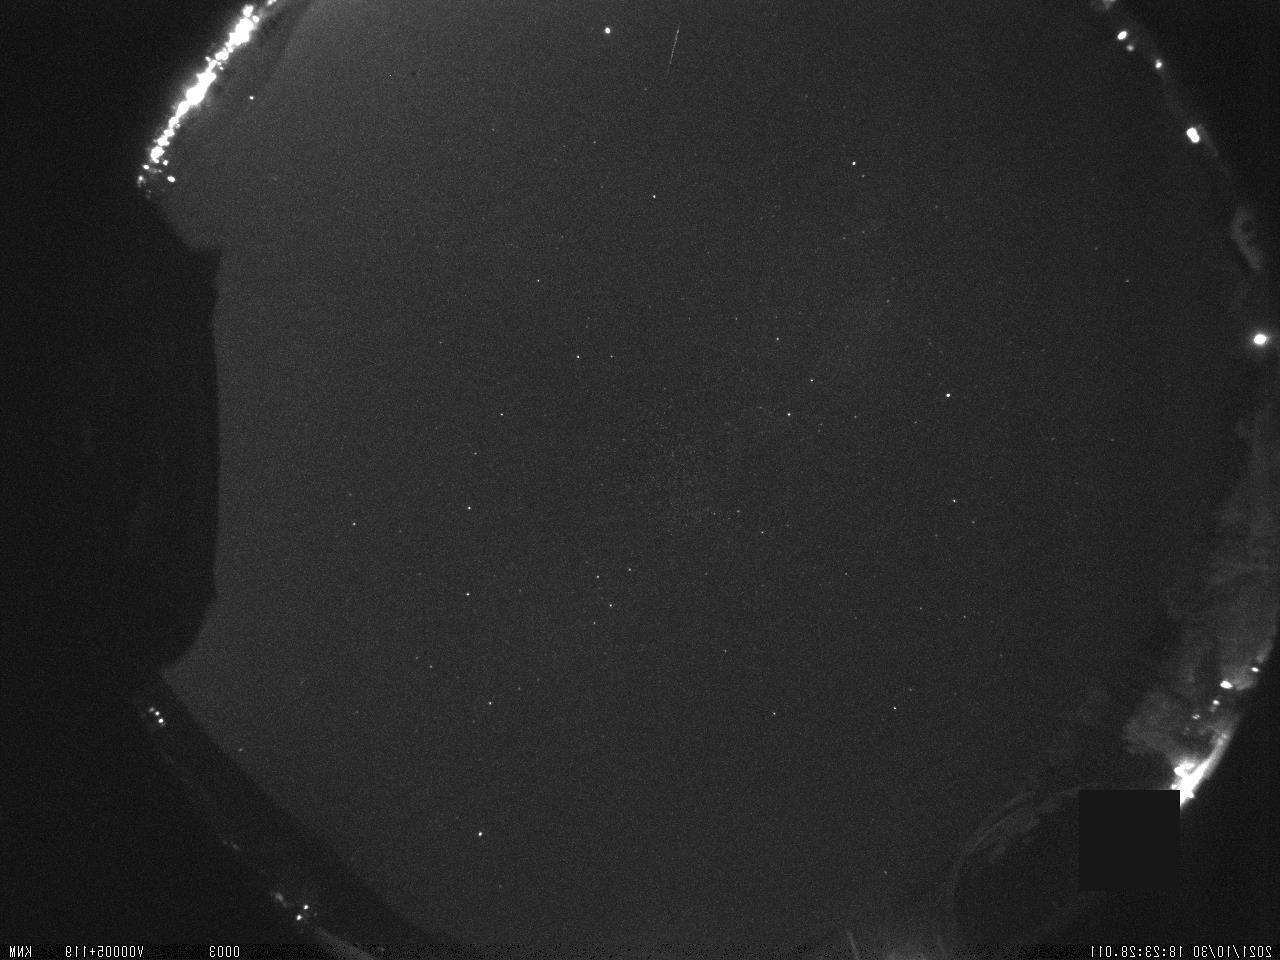meteor: (657, 19, 696, 91)
